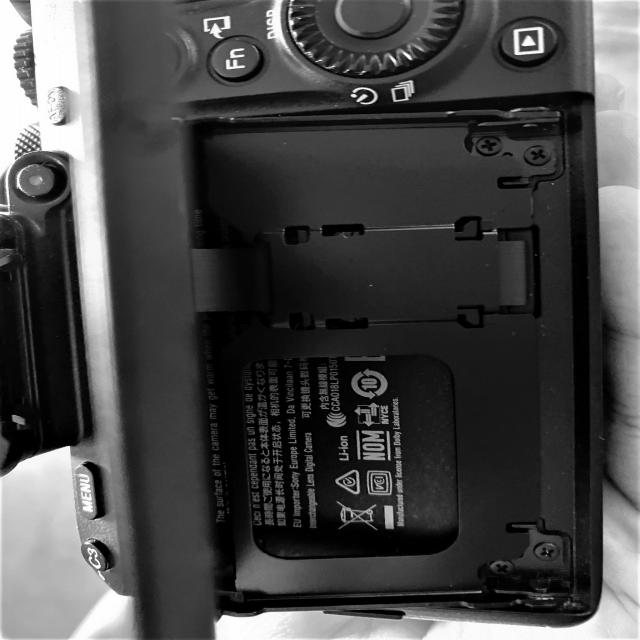PhillipsScrewHead: (523, 144, 554, 167), (474, 135, 503, 155), (534, 542, 562, 562), (488, 559, 514, 577)
